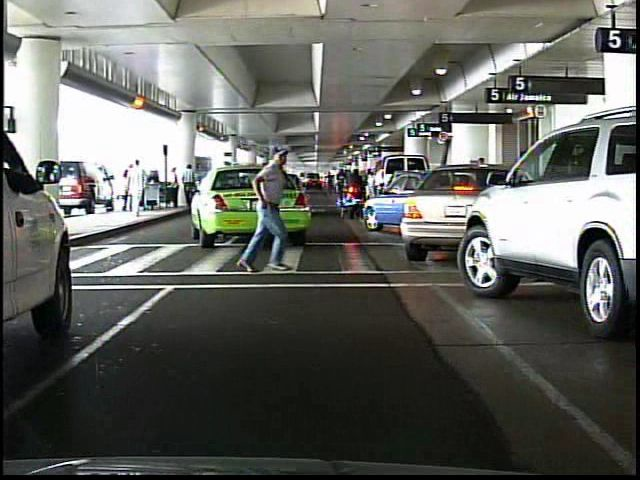person: (241, 145, 300, 275)
